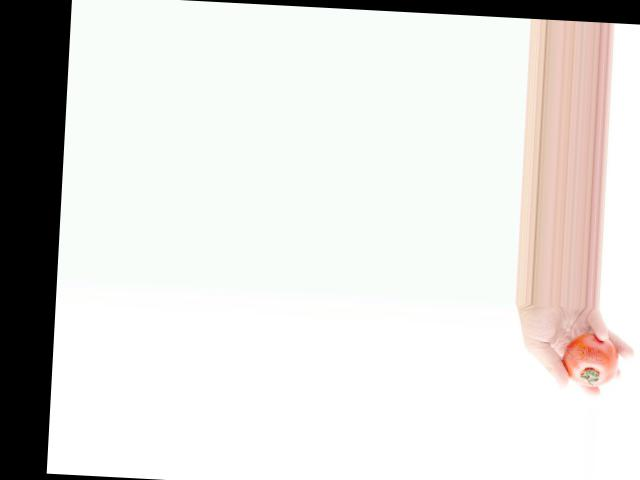tomato: (562, 332, 620, 387)
